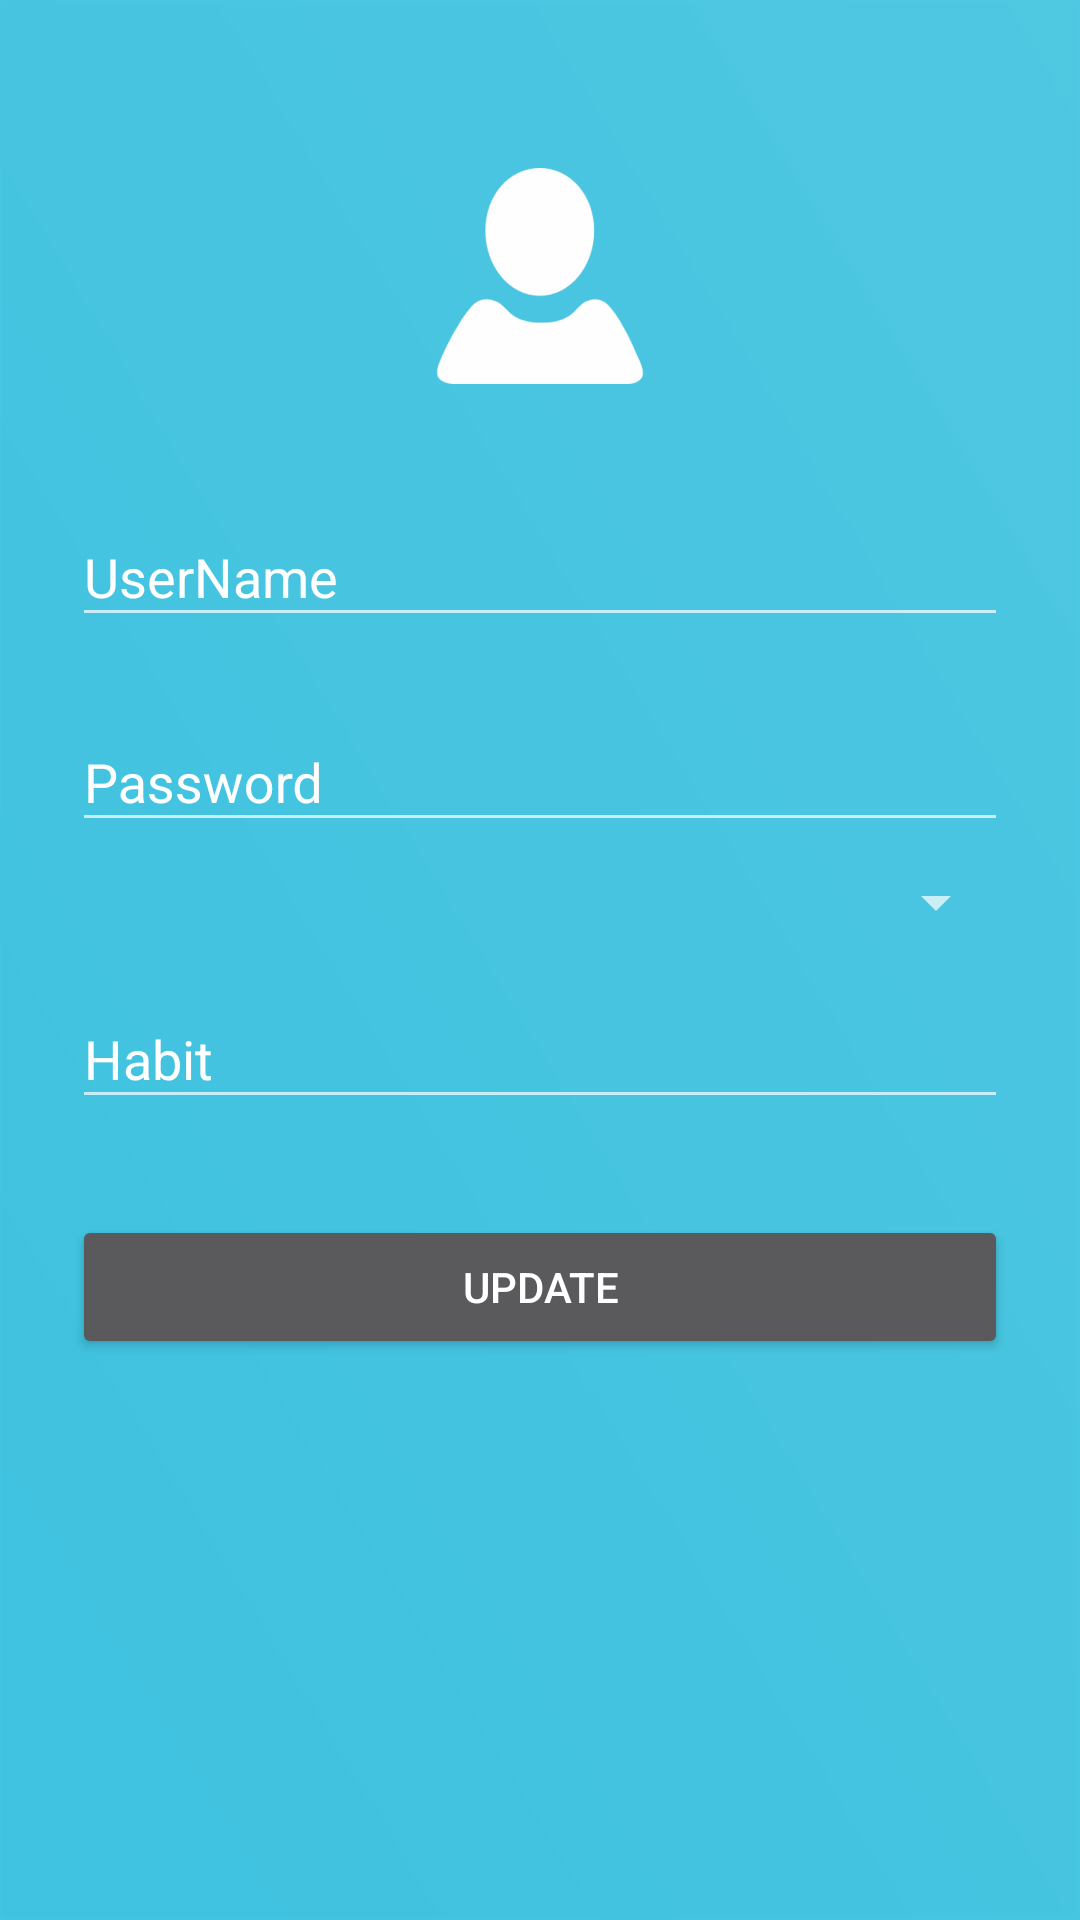

Icons on this 1080*1920 Android screen, each with its box as (x1, y1, x2, y2):
user shape: (437, 168, 643, 384)
